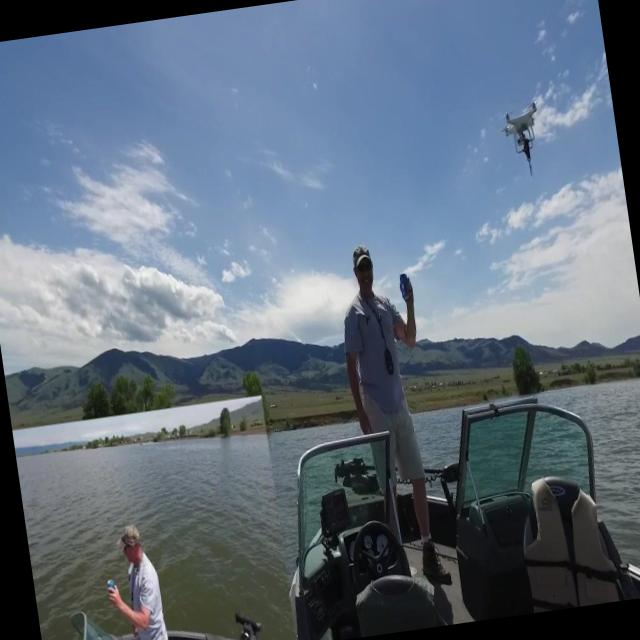drone: (498, 94, 552, 183)
